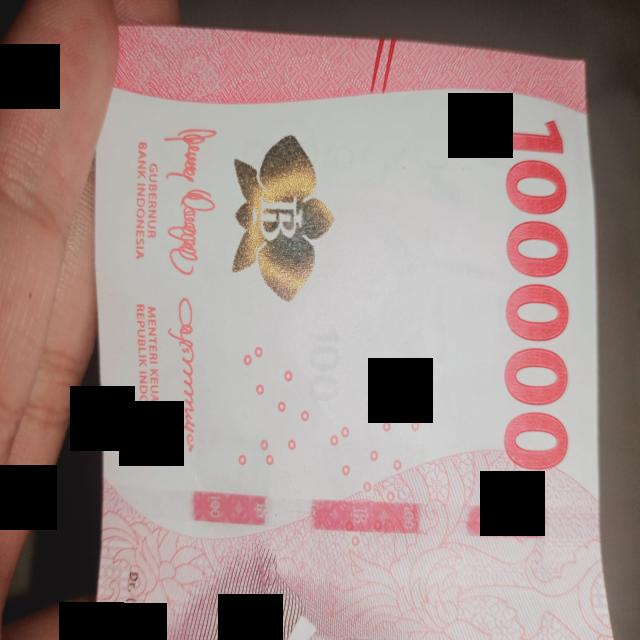seratusribu rupiah: (95, 27, 612, 638)
